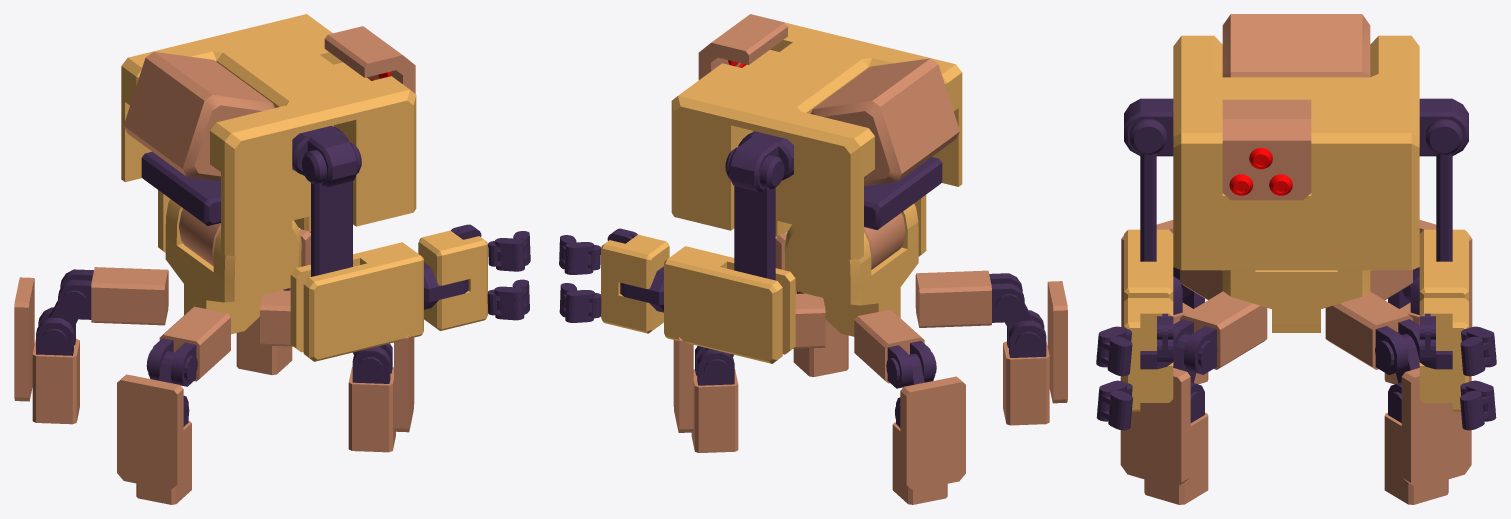
File: SM_ENE_Melee_New.fbx
3 renders of one model, left to right at view 1: azimuth 30°, elevation 25°; view 2: azimuth 150°, elevation 25°; view 3: azimuth 270°, elevation 25°, orthographic. The views are drawn at different scales.
Parts seen in each view (by area): view 1: polySurface3, Box1661 (×2); view 2: polySurface3, Box1661 (×2); view 3: polySurface3, Box1661 (×2).
Boxes of the visible parts, x1,y1,x2,y2 form: polySurface3: [14, 14, 416, 504]; Box1661 (×2): [158, 190, 530, 361]; polySurface3: [671, 14, 1067, 504]; Box1661 (×2): [559, 195, 926, 363]; polySurface3: [1120, 14, 1472, 504]; Box1661 (×2): [1096, 229, 1496, 430].
Size of the model in its own units: 3020 by 2712 by 2438.
